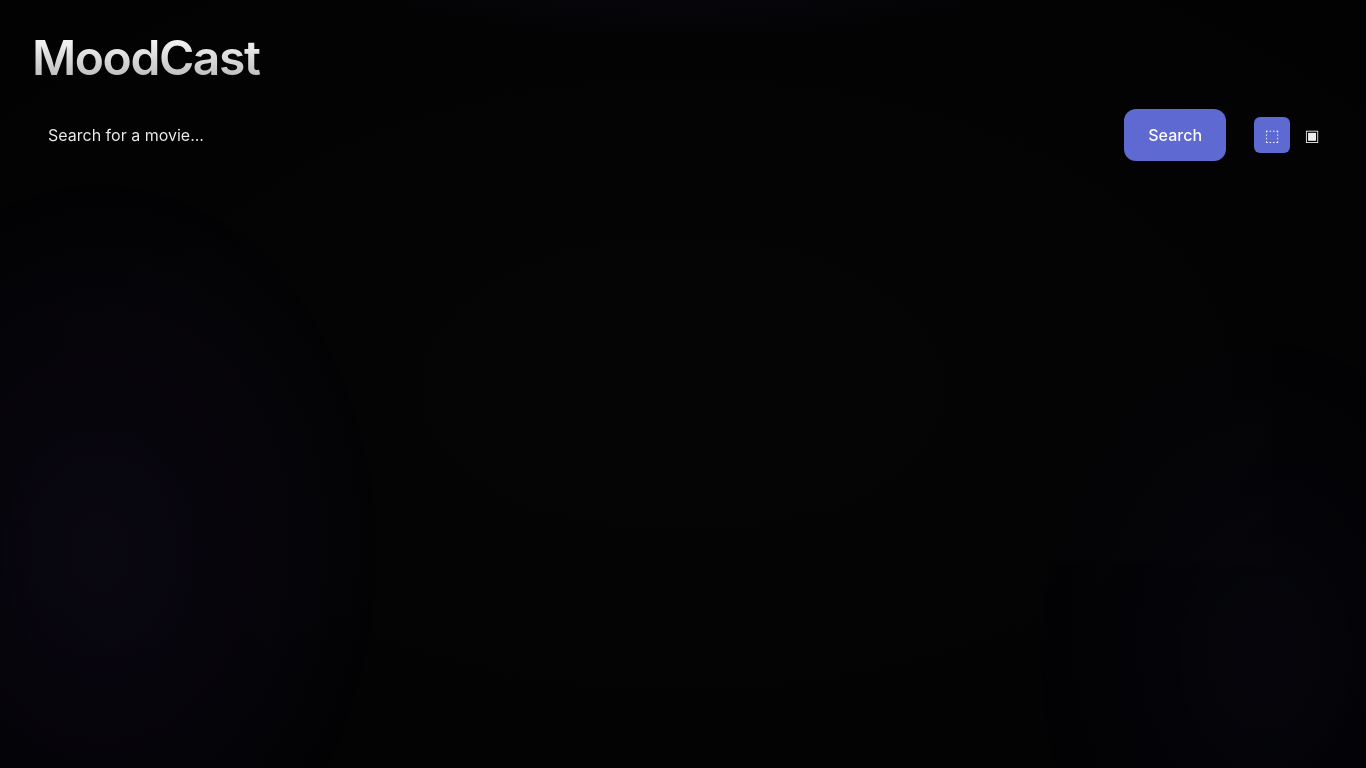
Test: App Component › searches for movies when user types and clicks search
# Type "Shawshank" into the search input
Type "Shawshank" into the field with placeholder "Search for a movie...".
click(572, 135); type("Shawshank")  # box [32,109,1112,161]
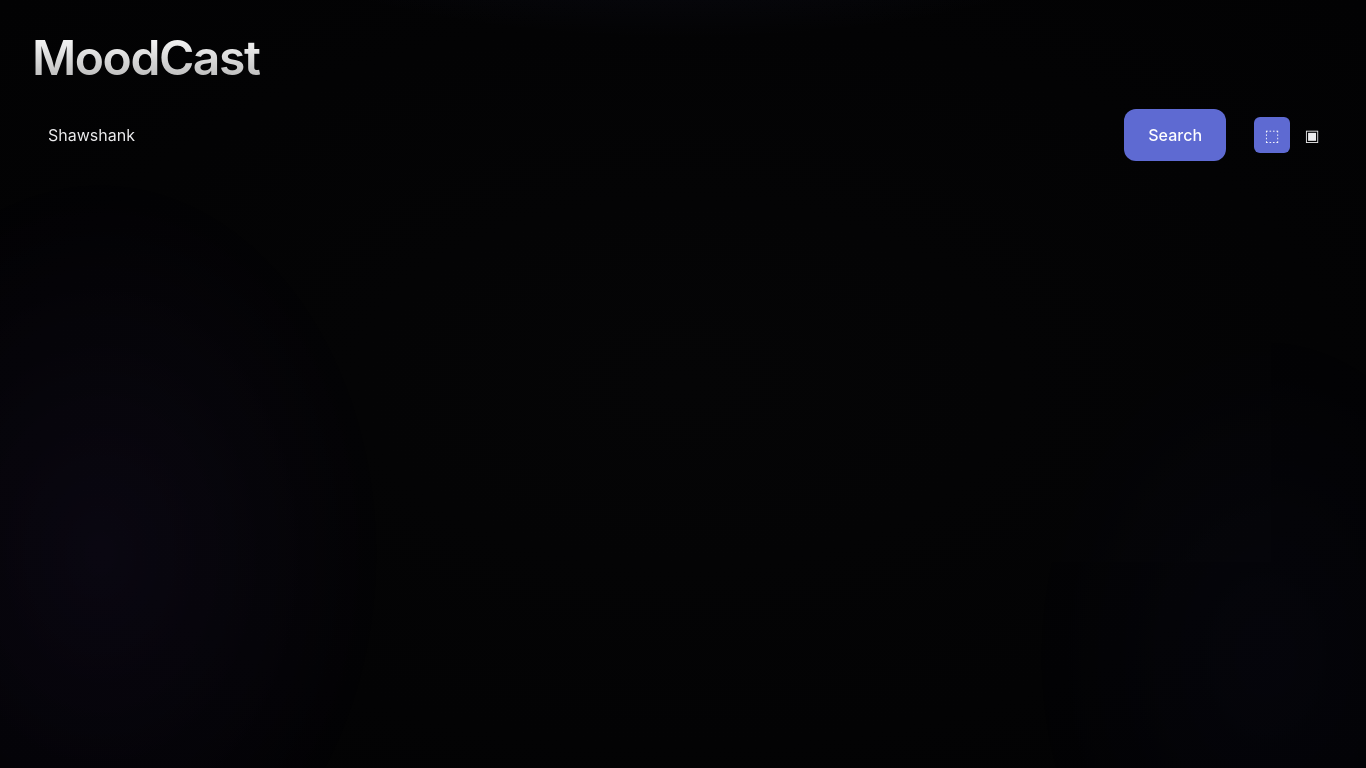
# Click the search button
Click the button "Search".
click(1175, 135)  # box [1124,109,1226,161]
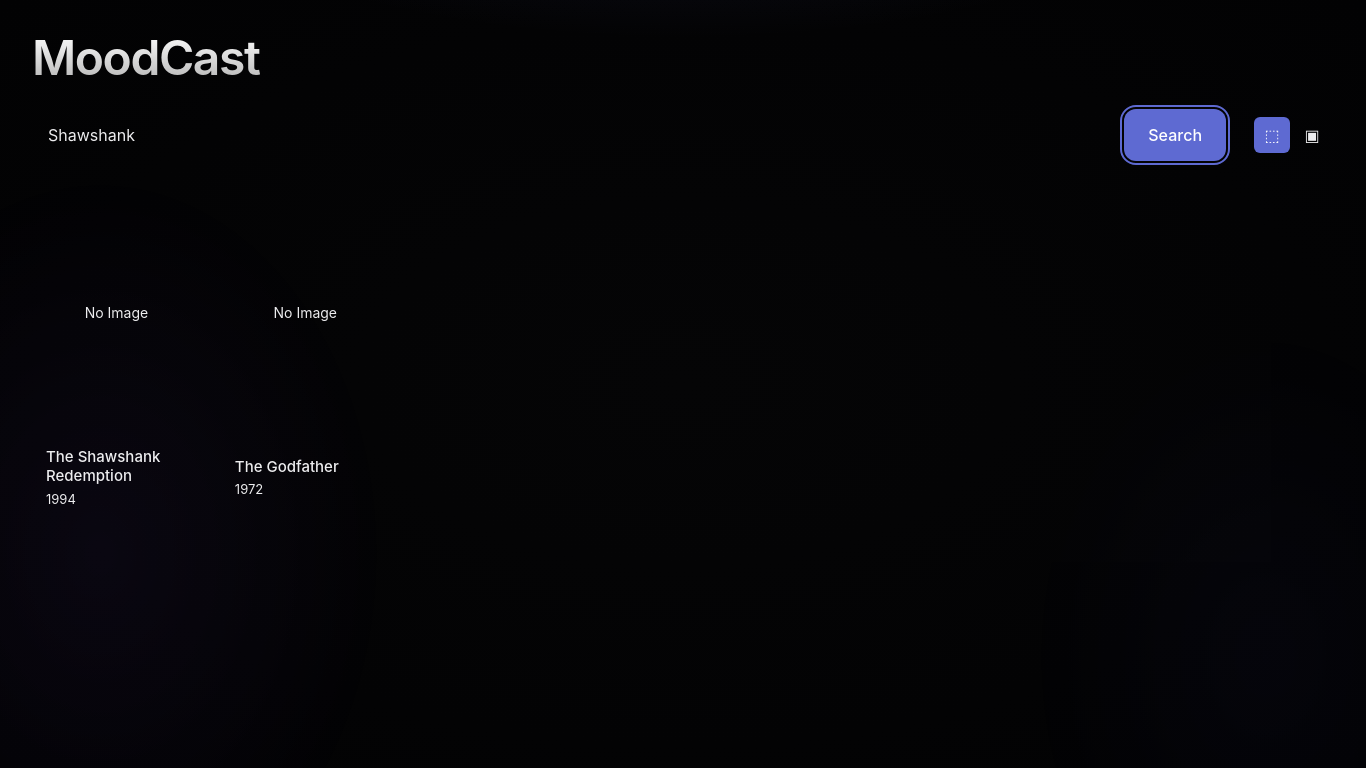
Expected: the heading "The Shawshank Redemption" is shown, [46,447,160,485]
Expected: the heading "The Godfather" is shown, [235,456,339,476]
